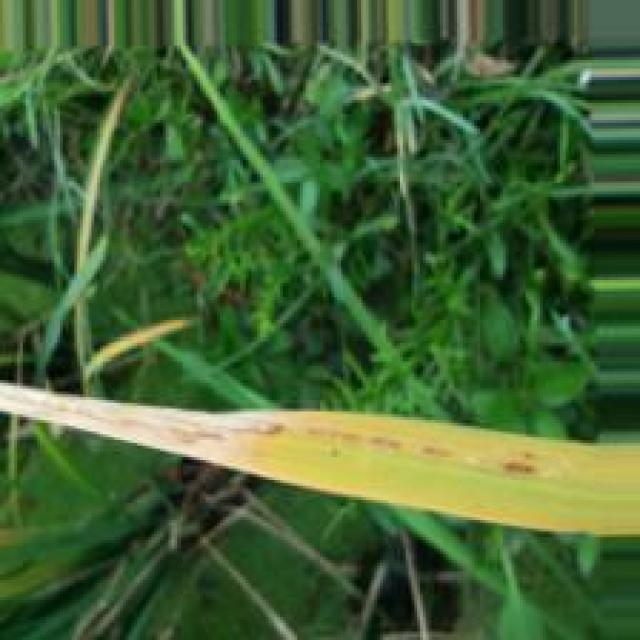Narrow_Brown_Leaf_Spot: (0, 373, 640, 544)
